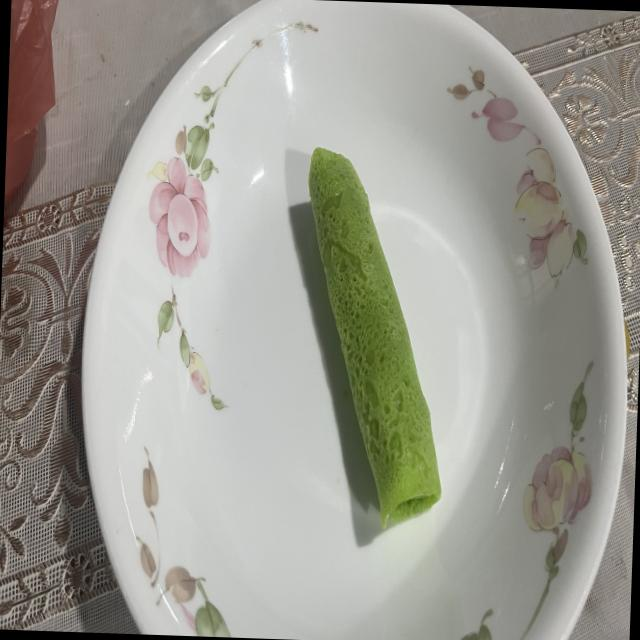Kuih-Ketayap: (308, 146, 441, 527)
